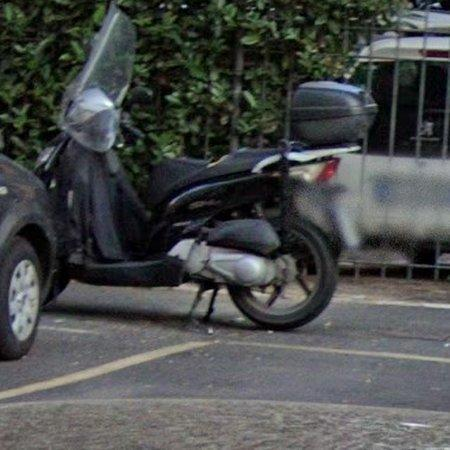motorcycles: (37, 5, 377, 329)
